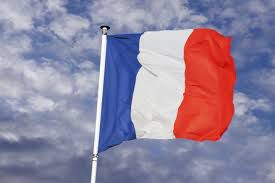French Flag: (103, 25, 237, 150)
